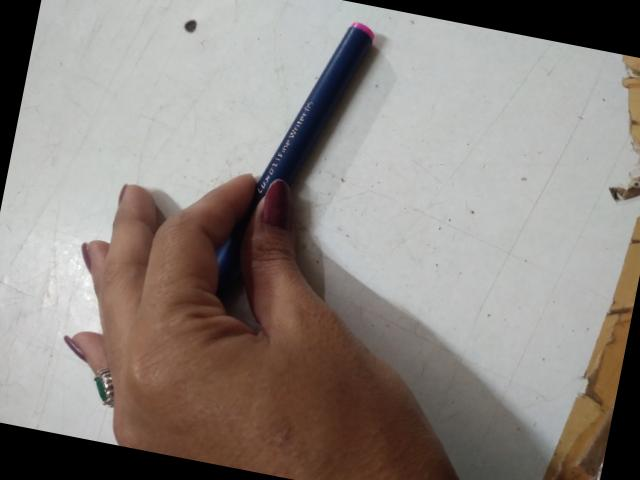PEN: (124, 144, 478, 362)
